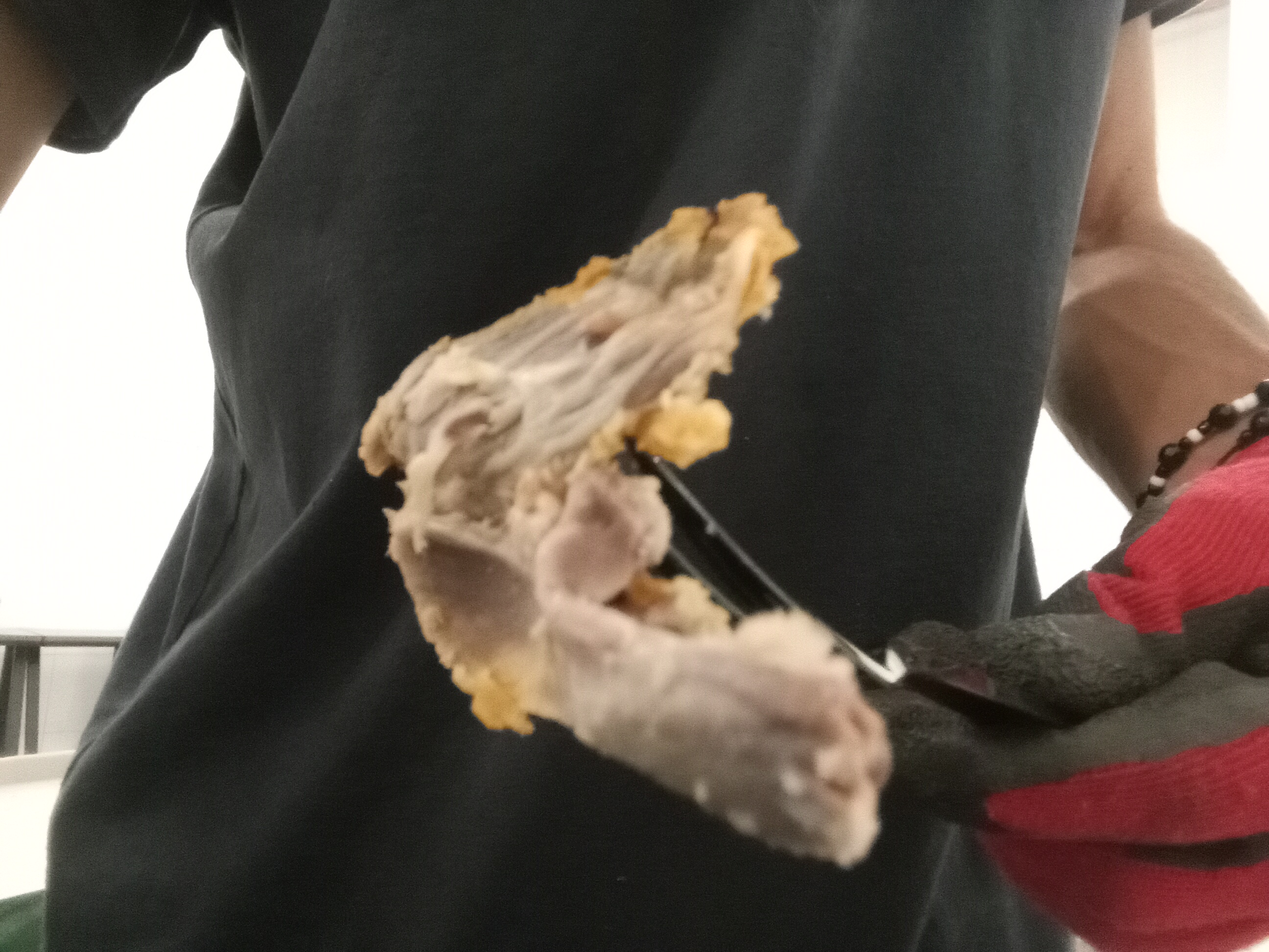Organico: (353, 191, 895, 870)
